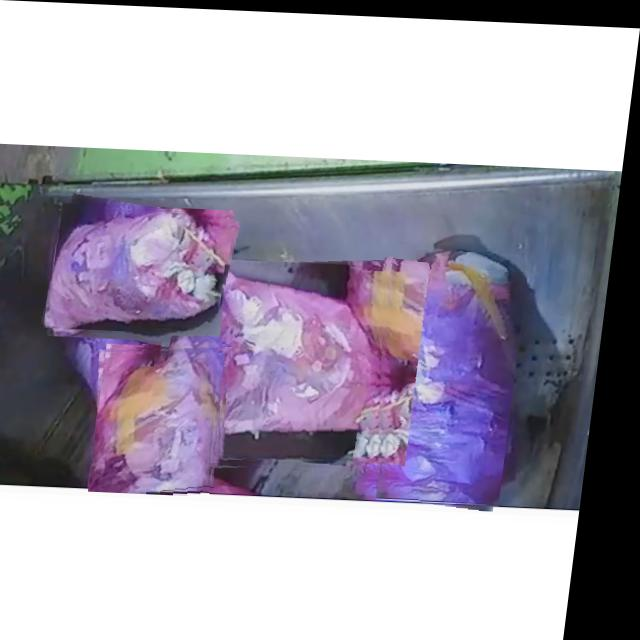other_trashbag: (169, 262, 416, 460), (386, 248, 523, 501), (54, 209, 228, 328), (104, 347, 226, 491)
